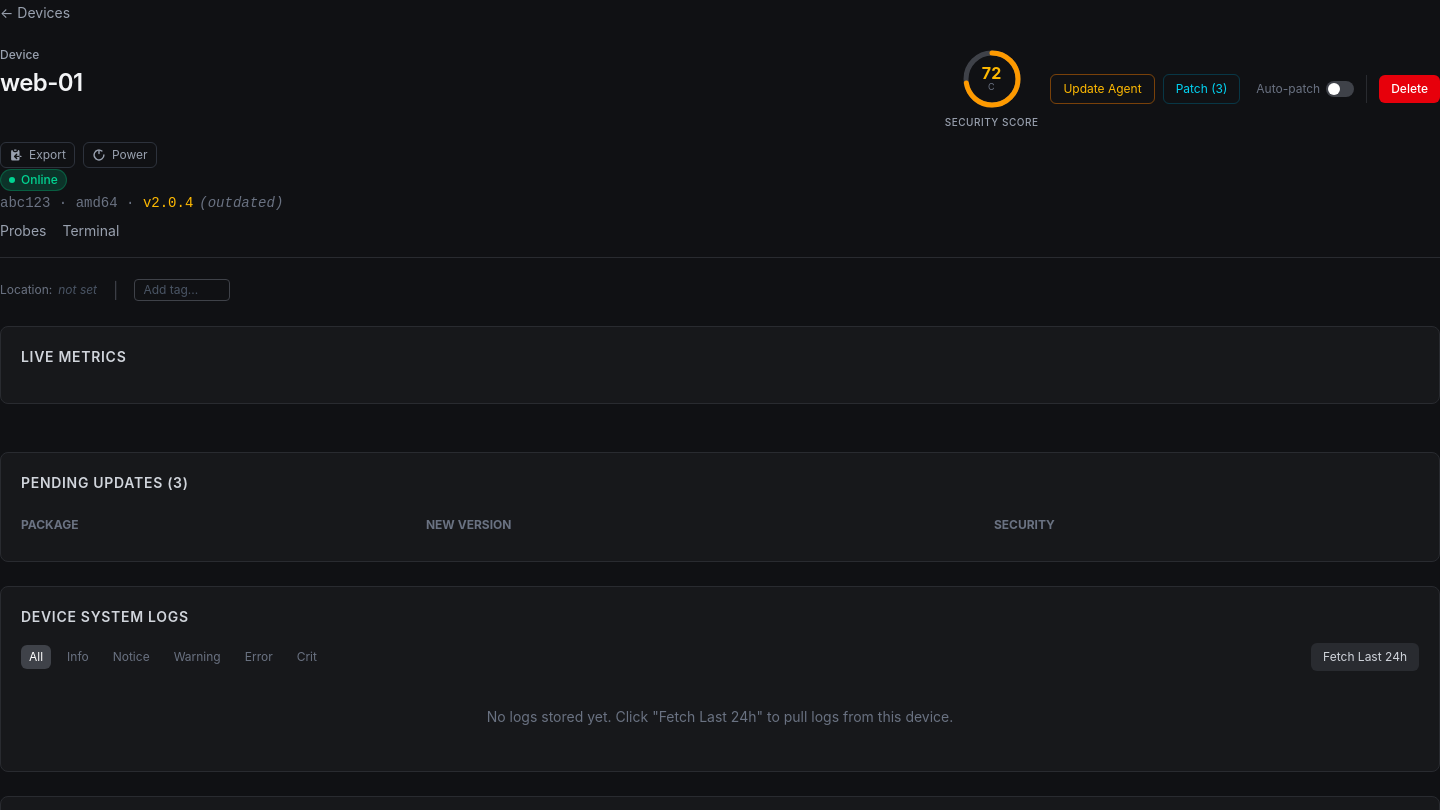
Test: [UIF AC-073] delete failure inline, no alert › does not log to the console
This screenshot has width=1440, height=810.
Click the button "Delete" at coordinates (1410, 88), box [1379, 74, 1439, 102]
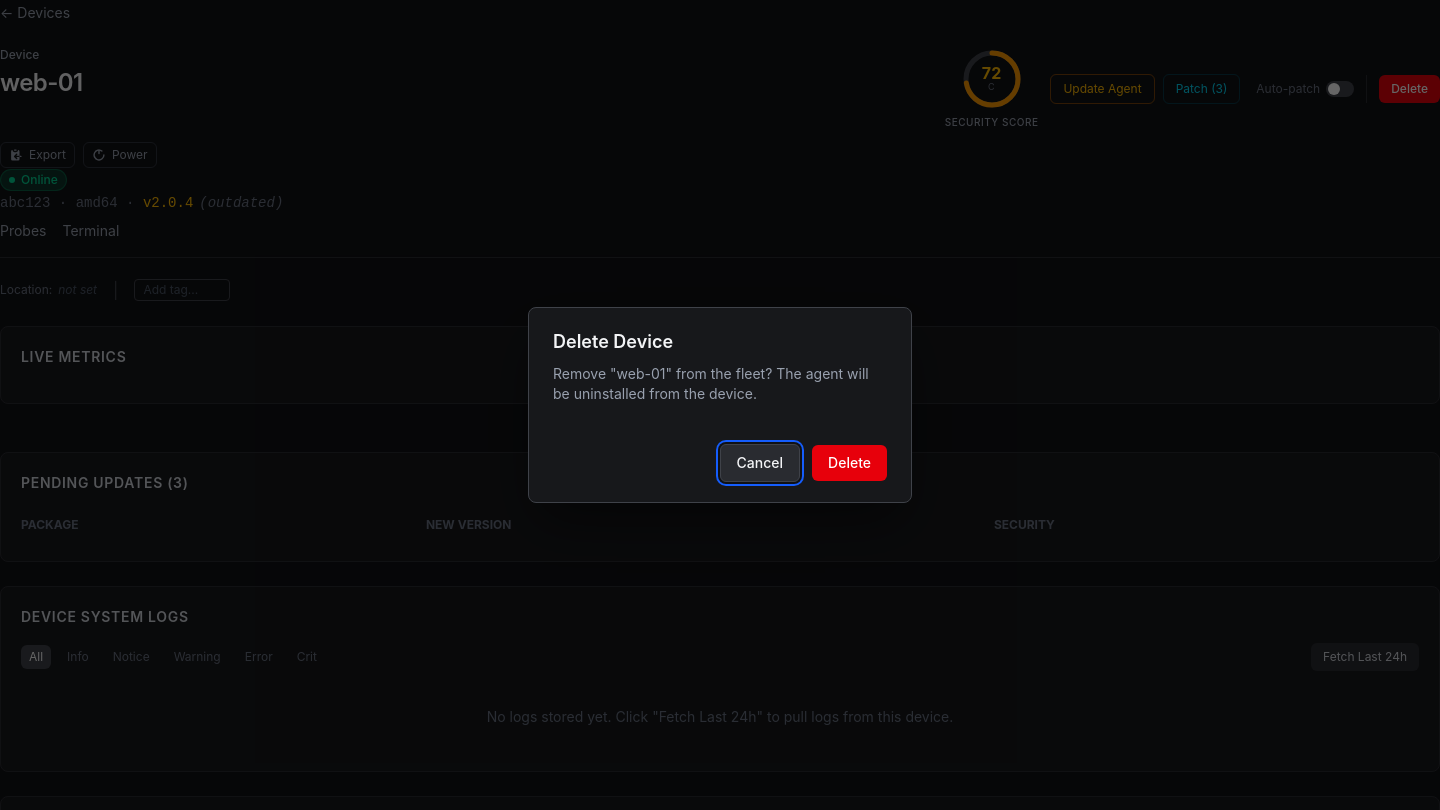
Click the button "Delete" at coordinates (850, 463), box [812, 445, 887, 481]
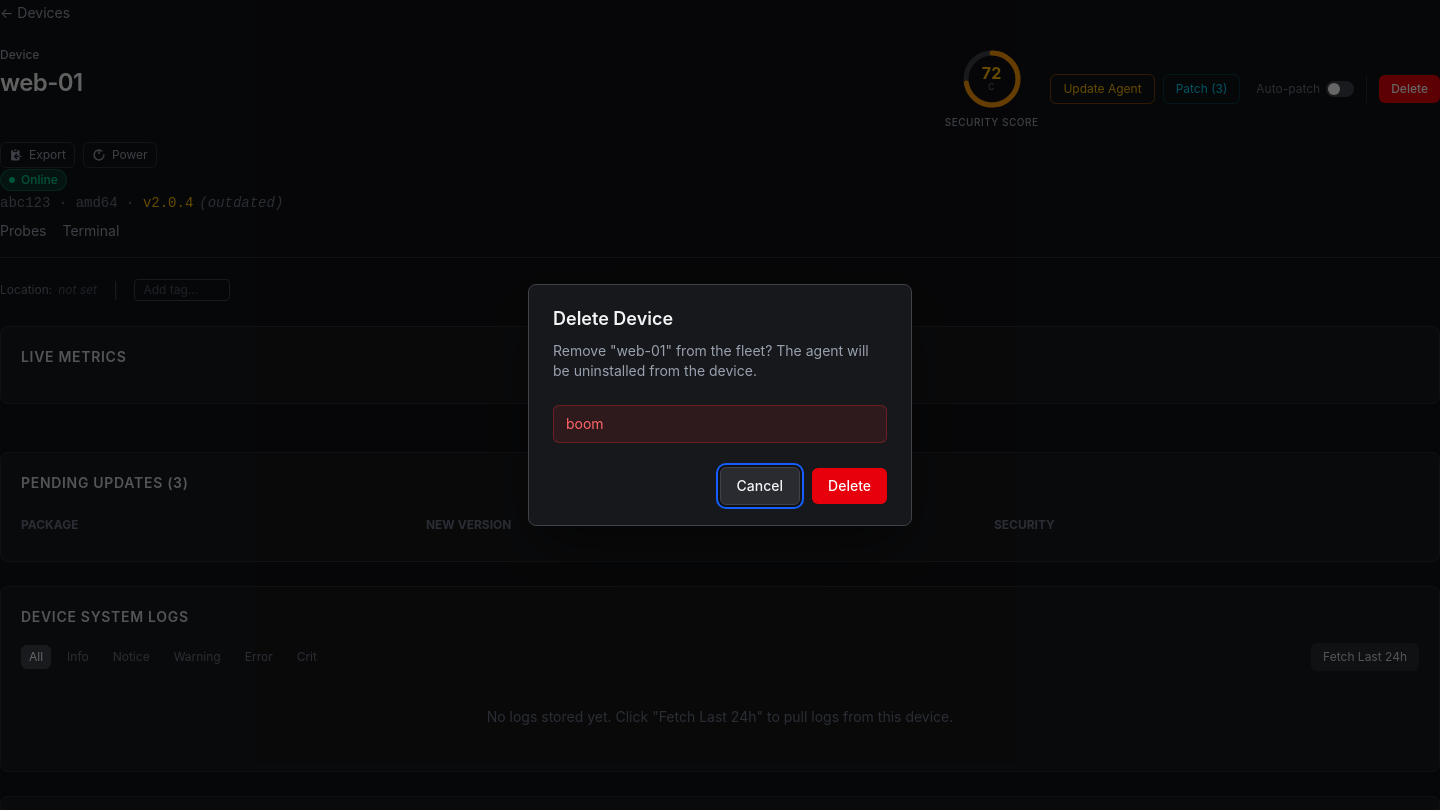
Now the message "boom" is shown, box [553, 405, 887, 443]
